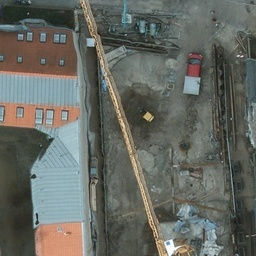car: (184, 51, 203, 78)
